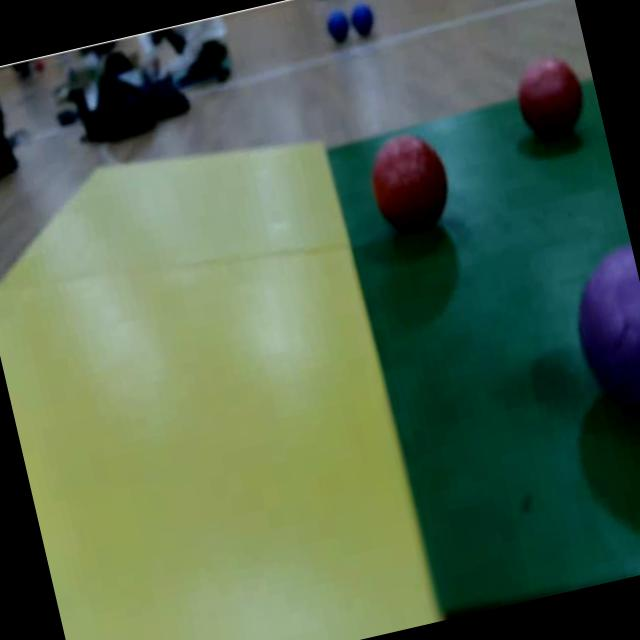blue_ball: (319, 8, 355, 50), (348, 2, 380, 40)
purple_ball: (556, 243, 640, 454)
red_ball: (362, 133, 454, 238), (506, 46, 596, 152)
